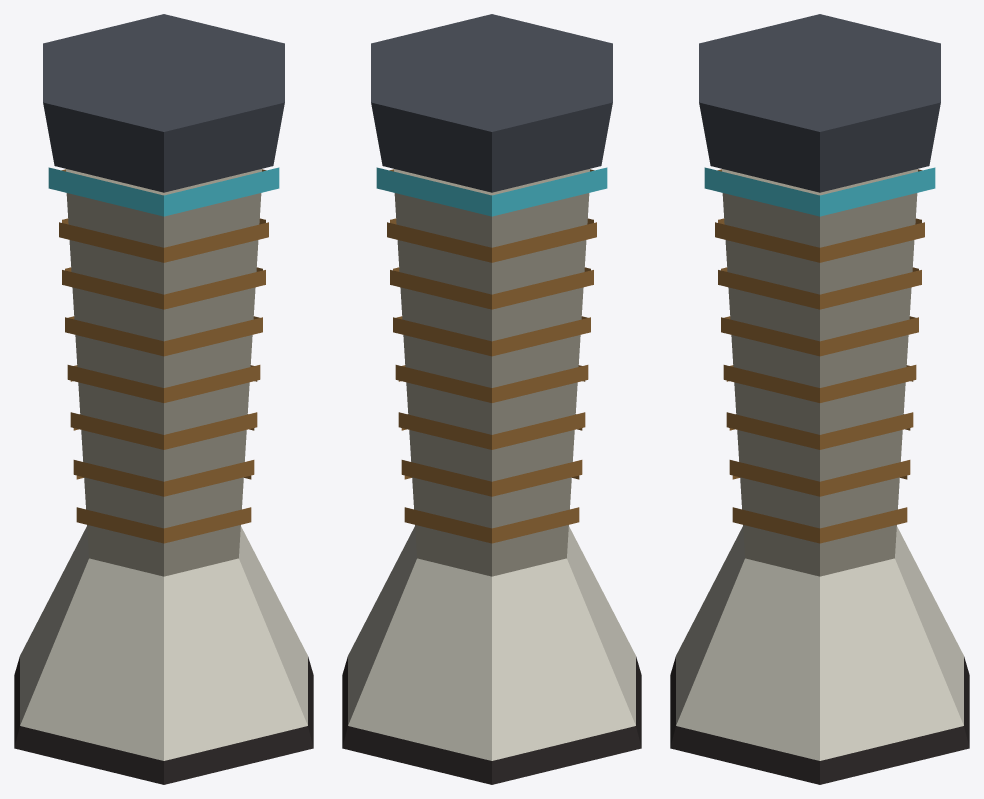
The model's file is ship_cruise_thruster.obj.
3 views of the same model, side by side, from view 1: azimuth 30°, elevation 25°; view 2: azimuth 150°, elevation 25°; view 3: azimuth 270°, elevation 25° (orthographic).
Visible parts, largest first — view 1: throat, barrel, mount, coils, lip, igniter; view 2: throat, barrel, mount, coils, lip, igniter; view 3: throat, barrel, mount, coils, lip, igniter.
Boxes of the visible parts, <box> form: throat: <box>20,526,307,760</box>; barrel: <box>66,169,261,576</box>; mount: <box>43,14,284,192</box>; coils: <box>59,169,268,543</box>; lip: <box>14,656,313,784</box>; igniter: <box>48,167,279,216</box>; throat: <box>348,526,635,760</box>; barrel: <box>394,169,589,576</box>; mount: <box>371,14,612,192</box>; coils: <box>387,169,596,543</box>; lip: <box>342,656,641,784</box>; igniter: <box>376,167,607,216</box>; throat: <box>676,526,963,760</box>; barrel: <box>722,169,917,576</box>; mount: <box>699,14,940,192</box>; coils: <box>715,169,924,543</box>; lip: <box>670,656,969,784</box>; igniter: <box>704,167,935,216</box>.
Size of the model in its own units: 1.04 by 2.12 by 0.9007.
